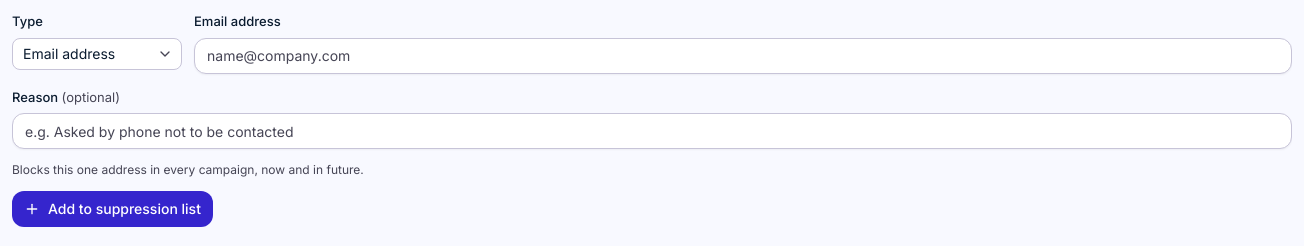
Test: SuppressionAddForm › shows the API's reason when it refuses
Type "jane@acme.com" into the field labelled "Email address" at (743, 56), box left=194, top=38, right=1292, bottom=74
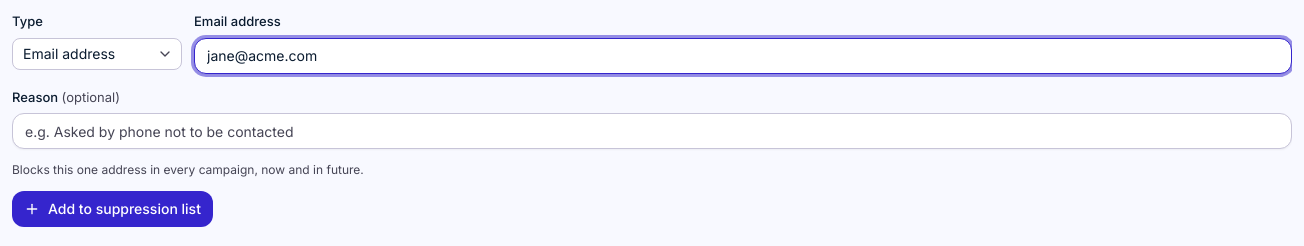
Click the button "Add to suppression list" at (112, 209), box left=12, top=191, right=213, bottom=227
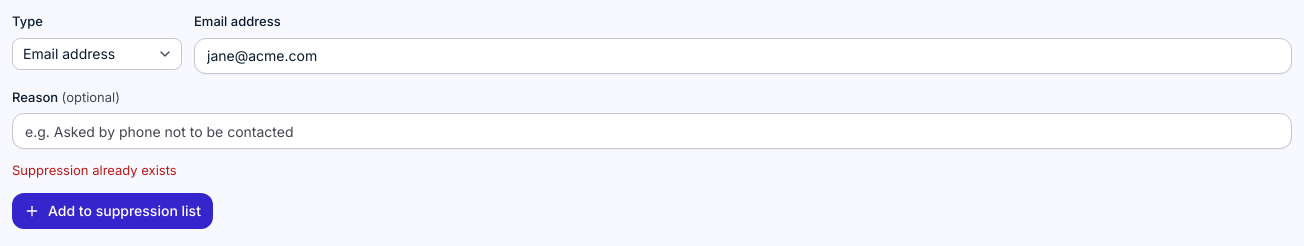
Expected: the message reads "Suppression already exists", left=12, top=162, right=177, bottom=178
